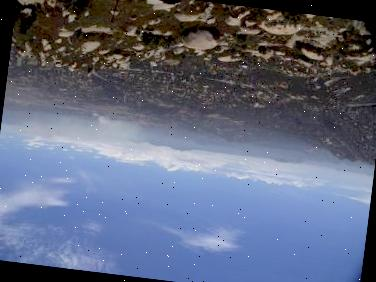smoke: (19, 103, 140, 155)
